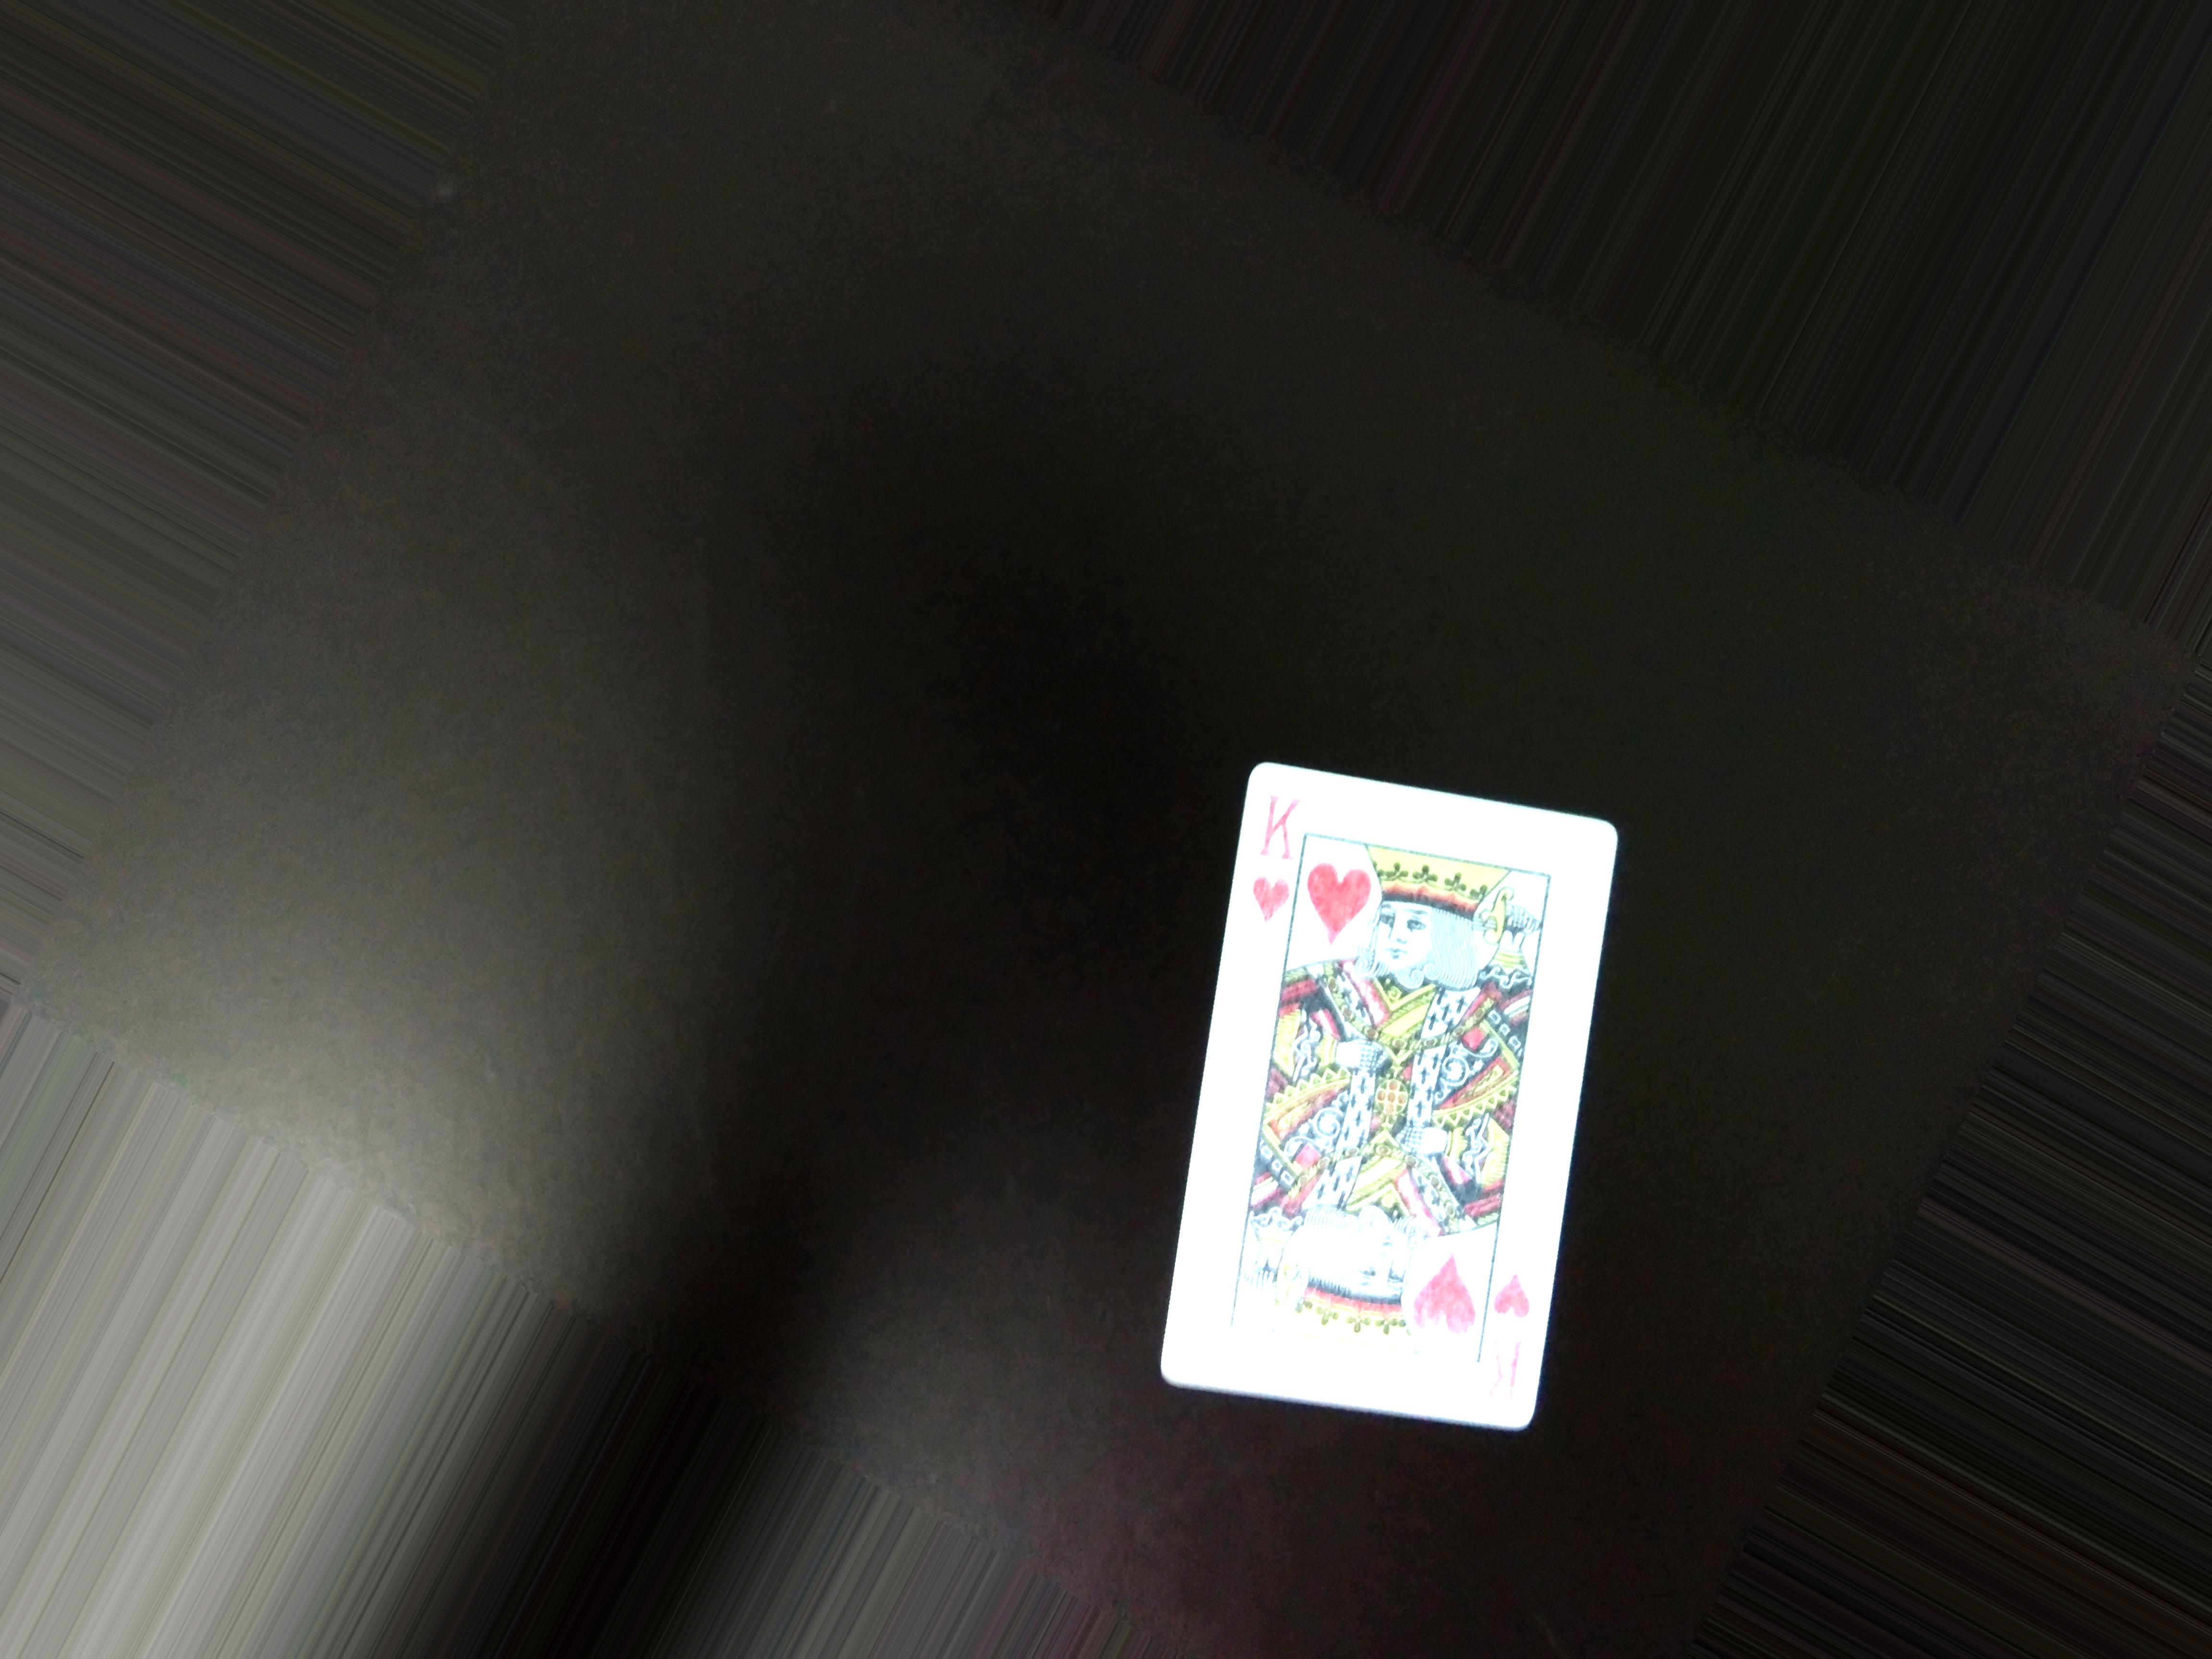KH: (1249, 772, 1303, 931)
